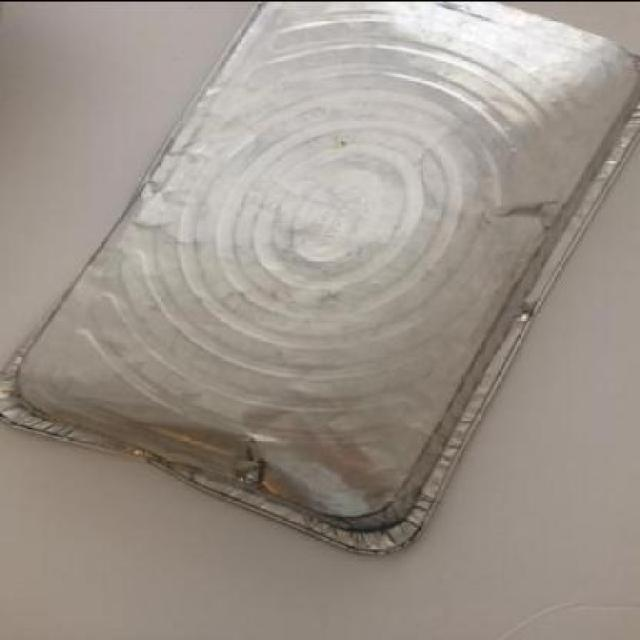METAL: (0, 1, 638, 552)
